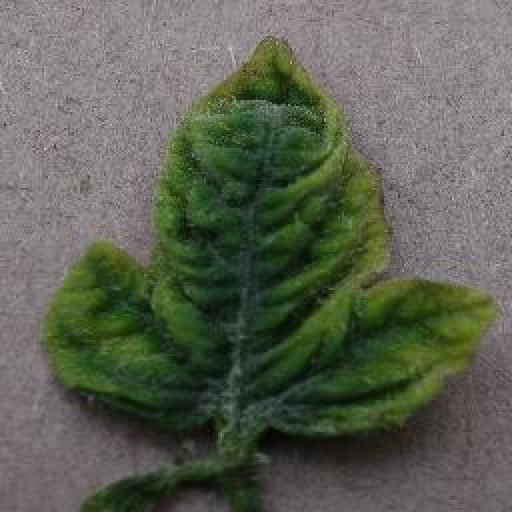disease_tomato: (39, 37, 498, 439)
